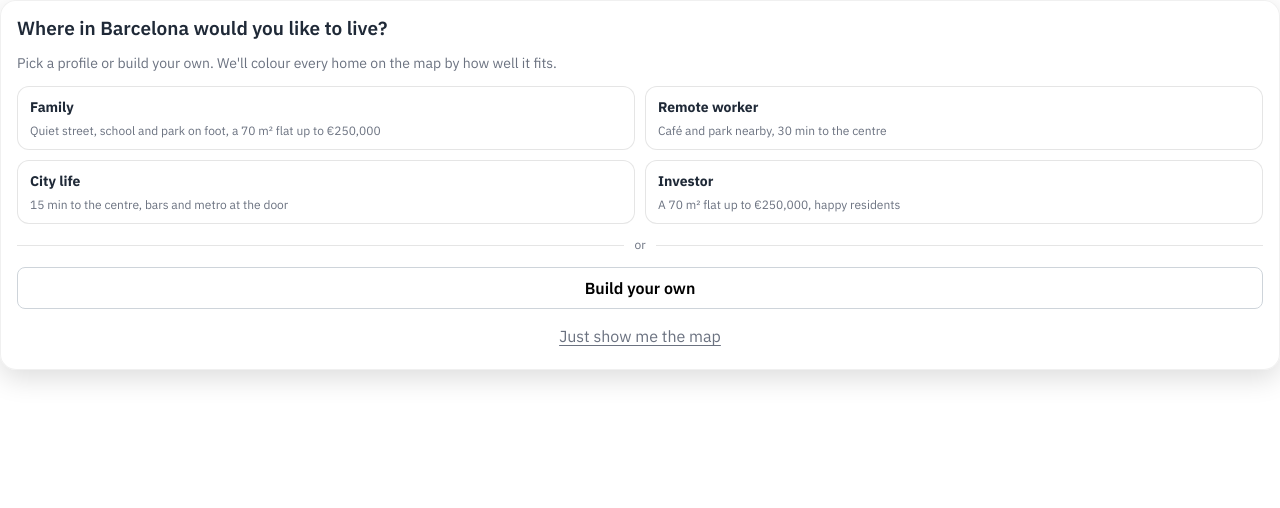
Test: OnboardingPanel › a profile fills the sentence and applies its settings once
Click the button "Family". click: (52, 107)
box: 17,86 -> 635,150
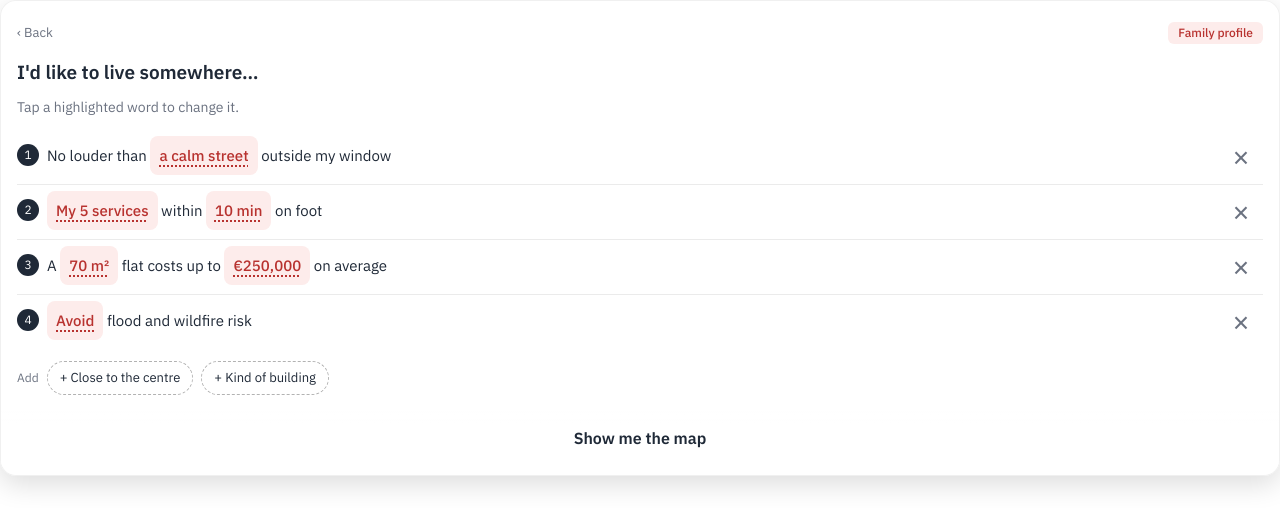
Expected: the text "Family profile" is shown, 1168,22 -> 1263,44
Expected: the text "No louder than a calm street outside my window" is shown, 47,136 -> 391,175
Expected: the heading "Where in Barcelona" is gone
